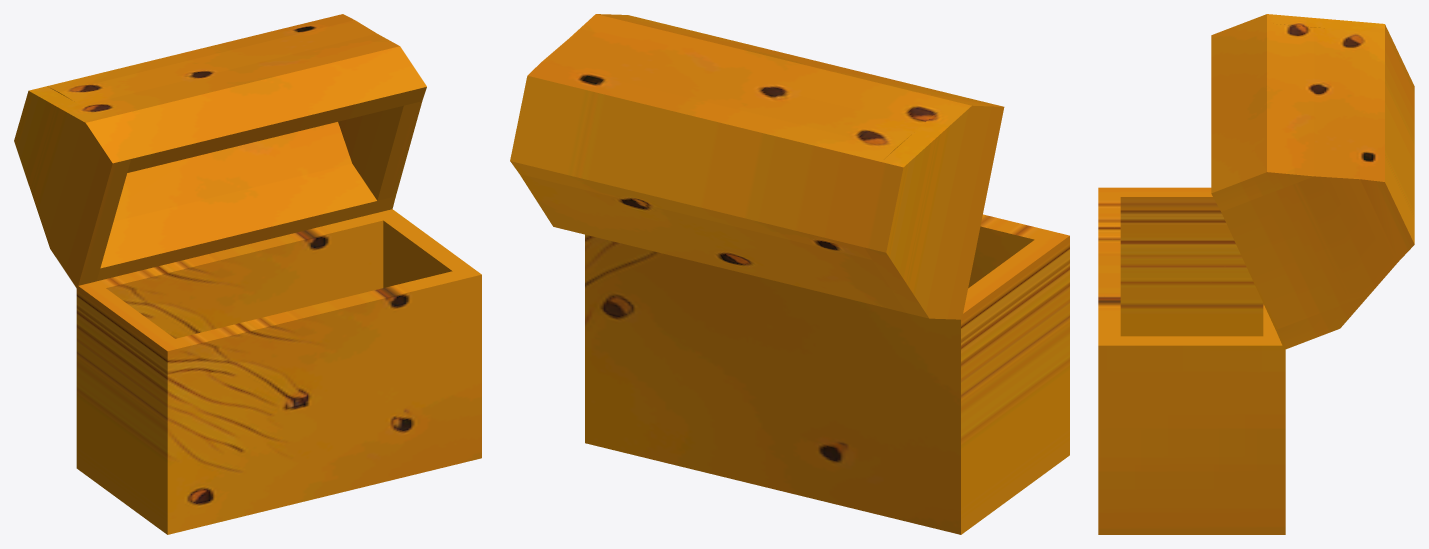
File: Chest.glb
3 renders of one model, left to right at view 1: azimuth 30°, elevation 25°; view 2: azimuth 150°, elevation 25°; view 3: azimuth 270°, elevation 25°, orthographic. The views are drawn at different scales.
Visible parts, largest first — view 1: Chest; view 2: Chest; view 3: Chest.
Boxes of the visible parts, box(x1,y1,x2,y2) form: Chest: box(14, 14, 481, 534); Chest: box(510, 14, 1069, 534); Chest: box(1098, 14, 1414, 534).
Bounding box in the file's own units: 68.03 × 72.8 × 57.55.
1 material, 1 textured.
